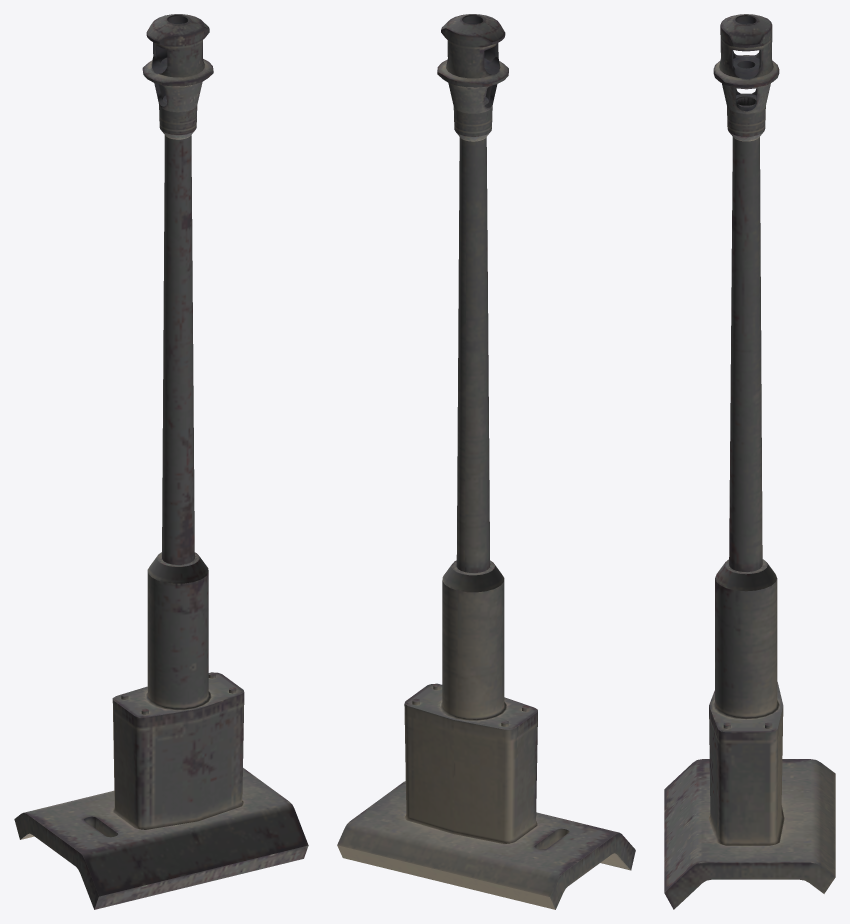
Rendered from Gun_01.glb.
3 views of the same model, side by side, from view 1: azimuth 30°, elevation 25°; view 2: azimuth 150°, elevation 25°; view 3: azimuth 270°, elevation 25° (orthographic).
Parts seen in each view (by area): view 1: set_0_group_0; view 2: set_0_group_0; view 3: set_0_group_0.
Part boxes in pixels (x1,y1,x2,y2): set_0_group_0: (14,14,308,909); set_0_group_0: (337,14,635,909); set_0_group_0: (664,14,835,909).
Size of the model in its own units: 0.8832 by 3.36 by 0.6174.
Materials: 1 (1 with a texture image).
